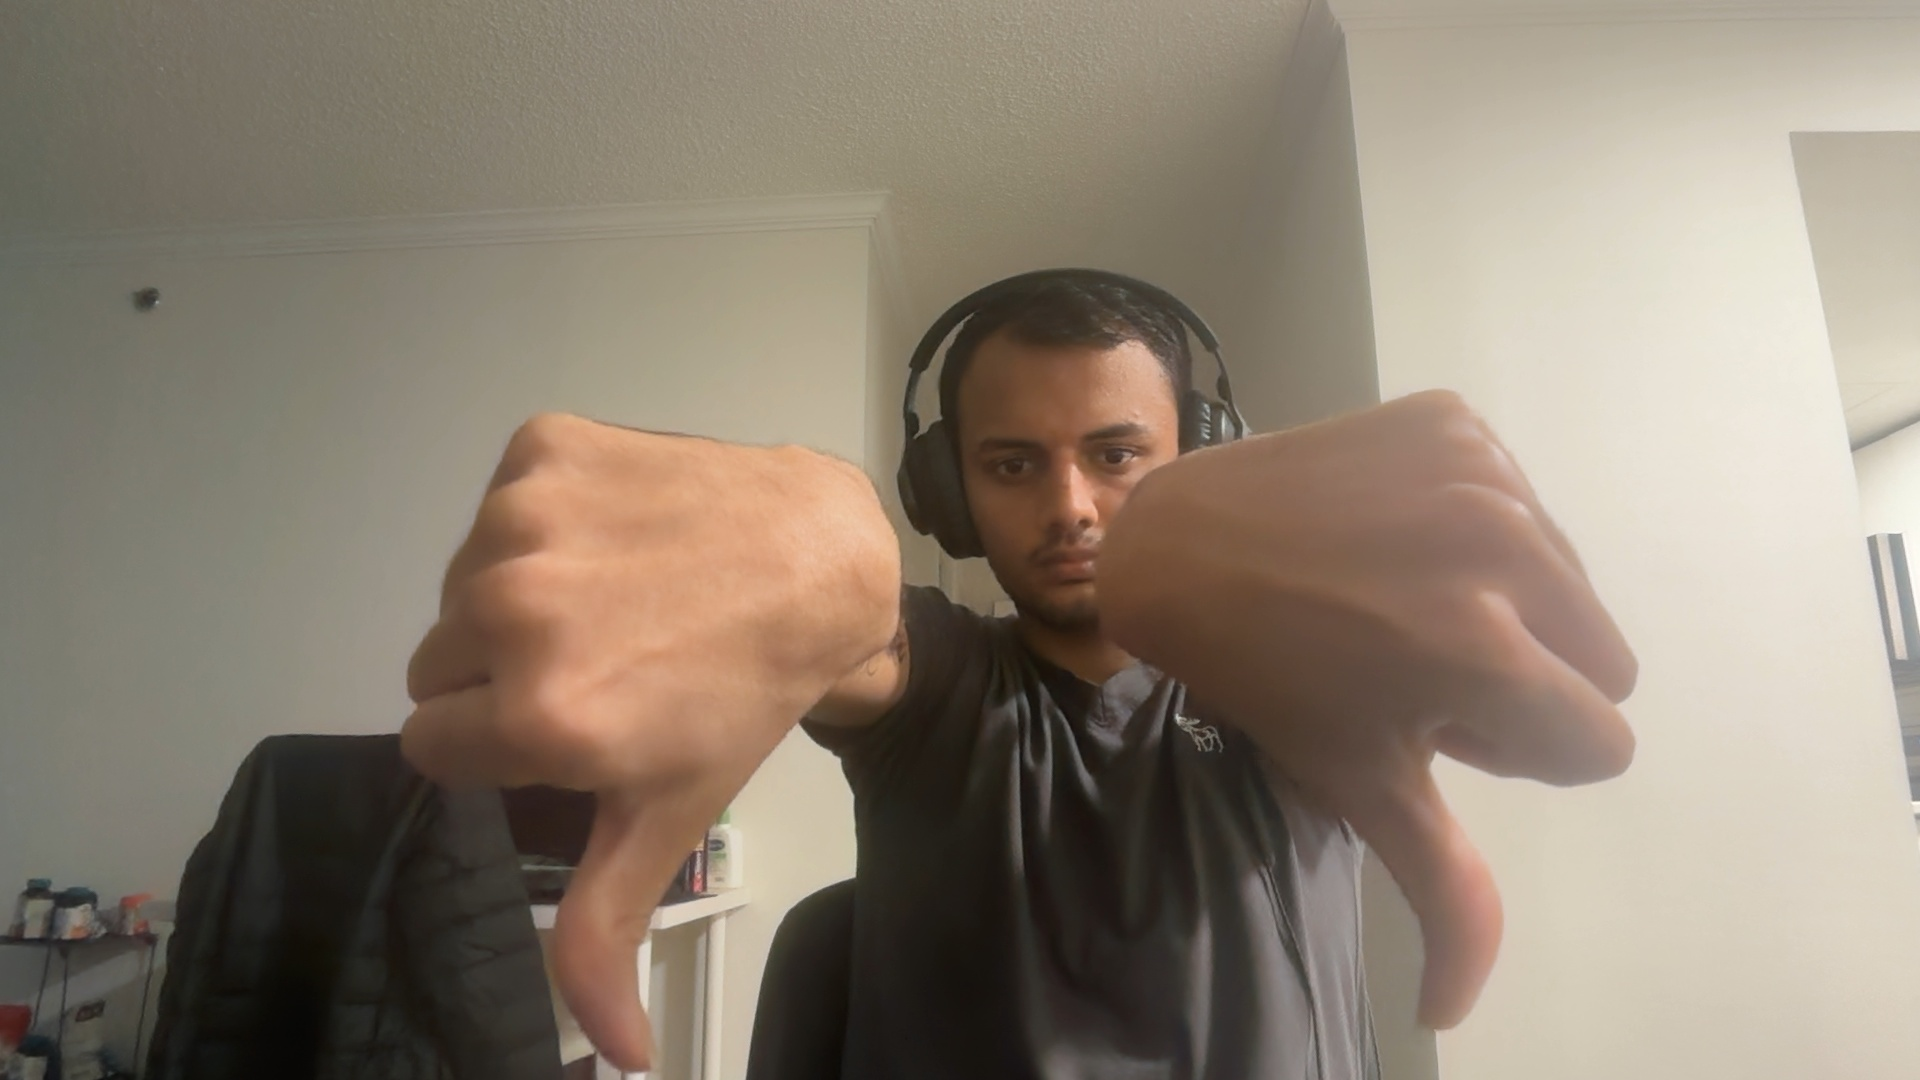thumbsdown: (1276, 389, 1639, 1033)
